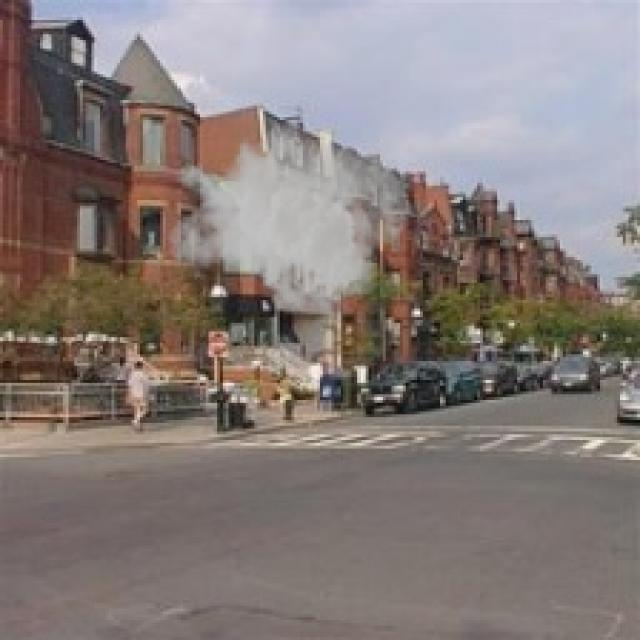smoke: (166, 106, 411, 317)
